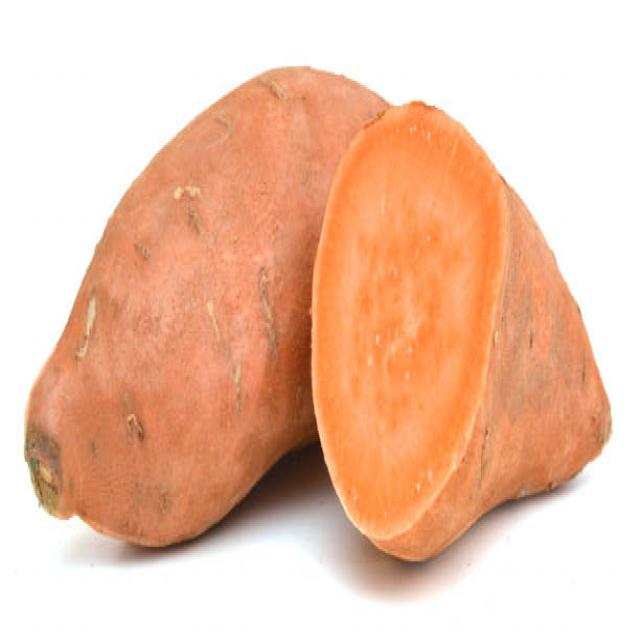Sweet Potato: (310, 97, 614, 565), (24, 61, 312, 553)
